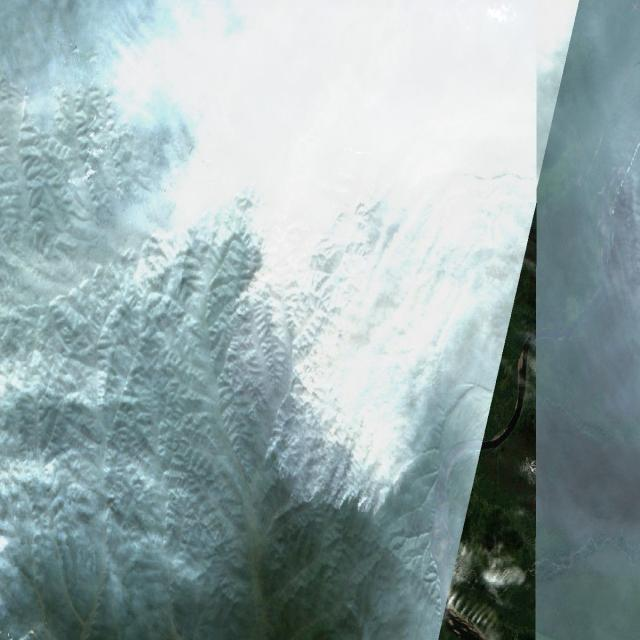fire: (216, 189, 424, 526)
